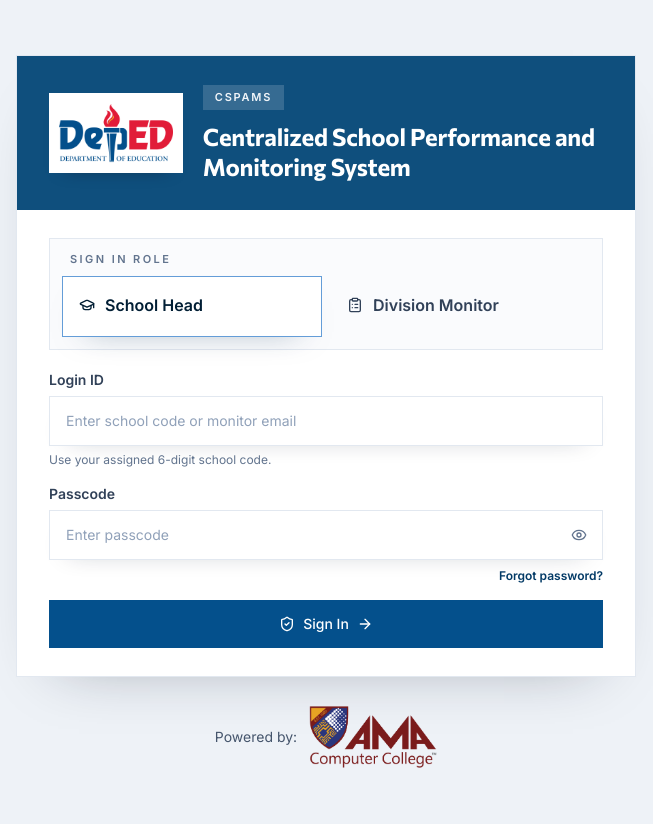
Login › shows a monitor MFA delivery message when credentials are accepted but email delivery fails
Click the button "Division Monitor" at (460, 307), box [330,276,590,337]
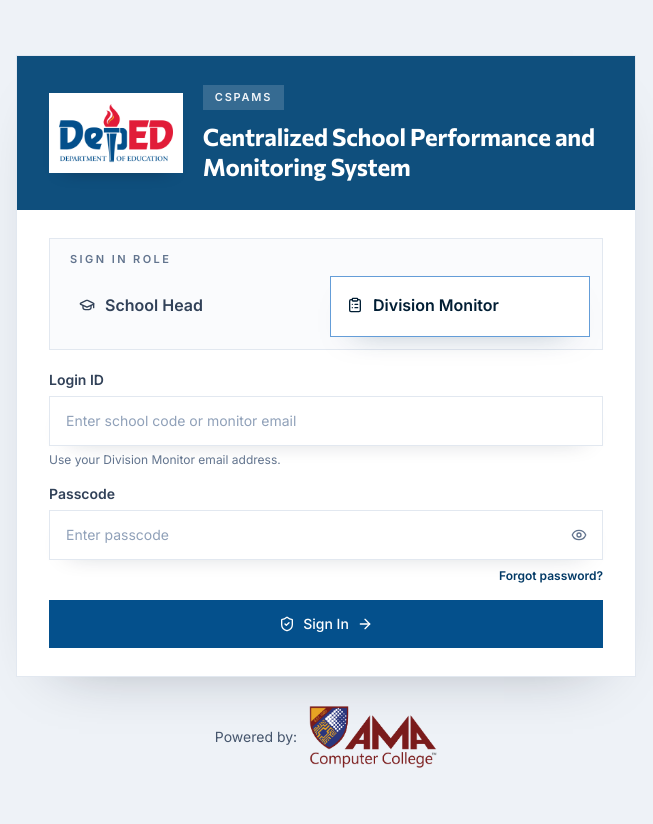
Type "cspamsmonitor@gmail.com" into the field labelled "Login ID" at (326, 421), box [49,396,603,446]
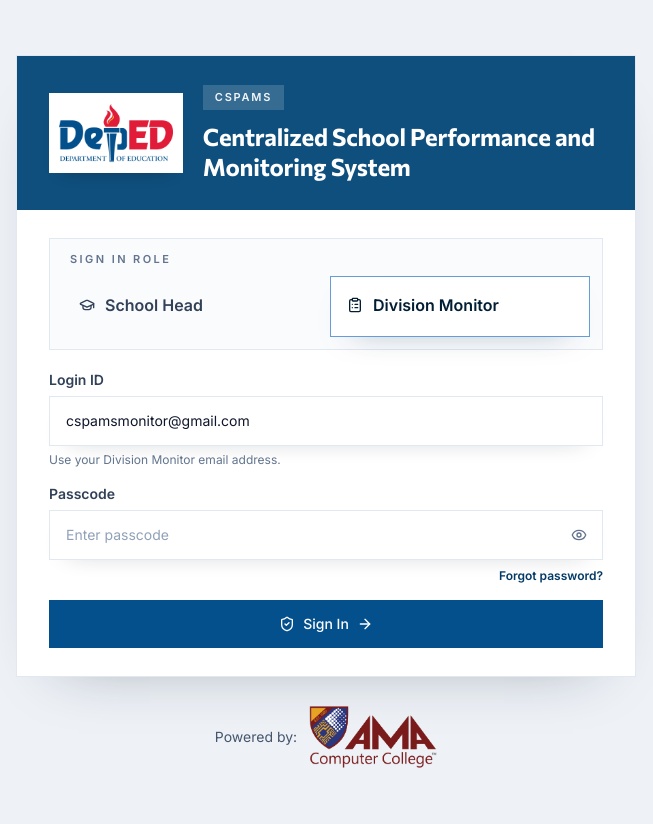
Type "Demo@123456" into the password field labelled "Passcode" at (326, 535), box [49,510,603,560]
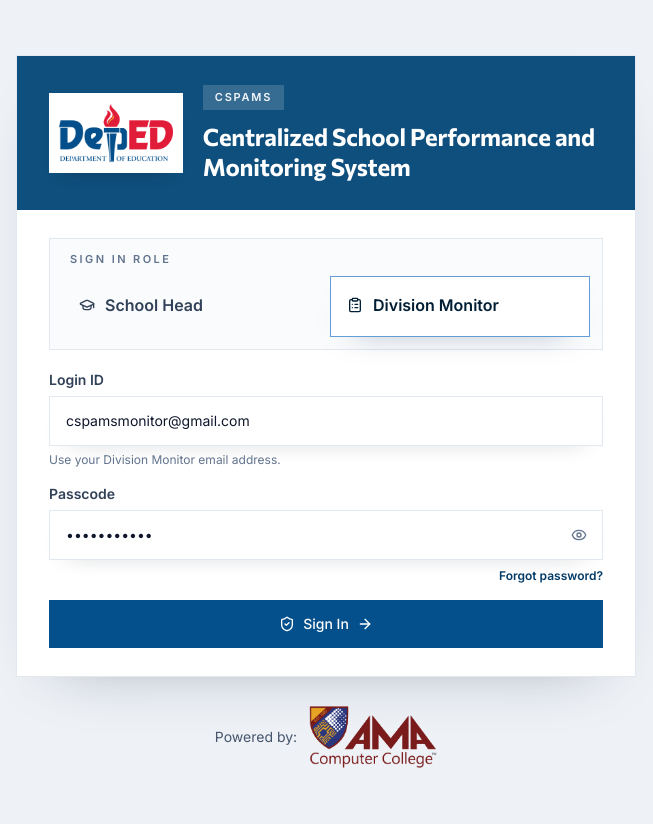
Submit the form named "sign in", box [49,370,603,648]
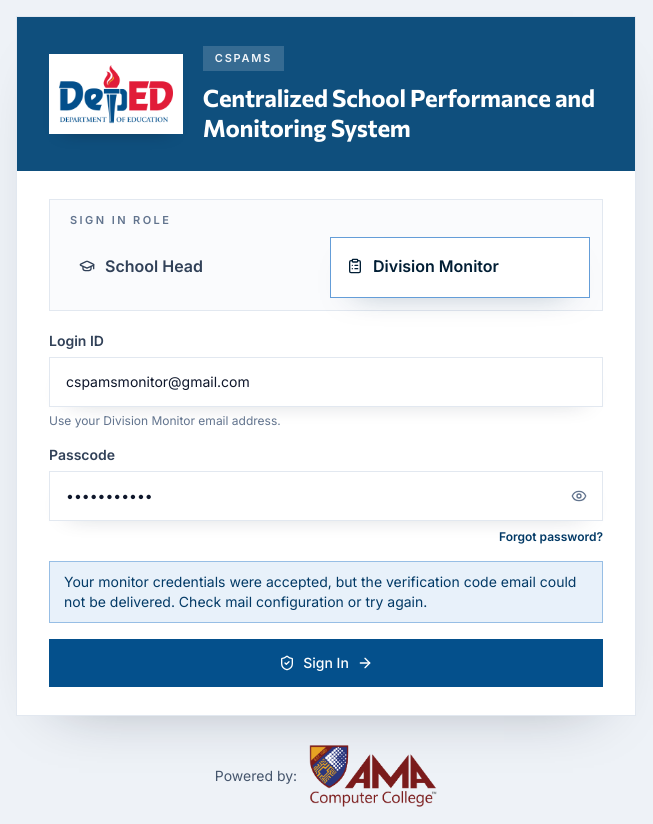
Expected: the text "Your monitor credentials were accepted, but the verification code email could not be delivered. Check mail configuration" is shown, [64,573,576,610]
